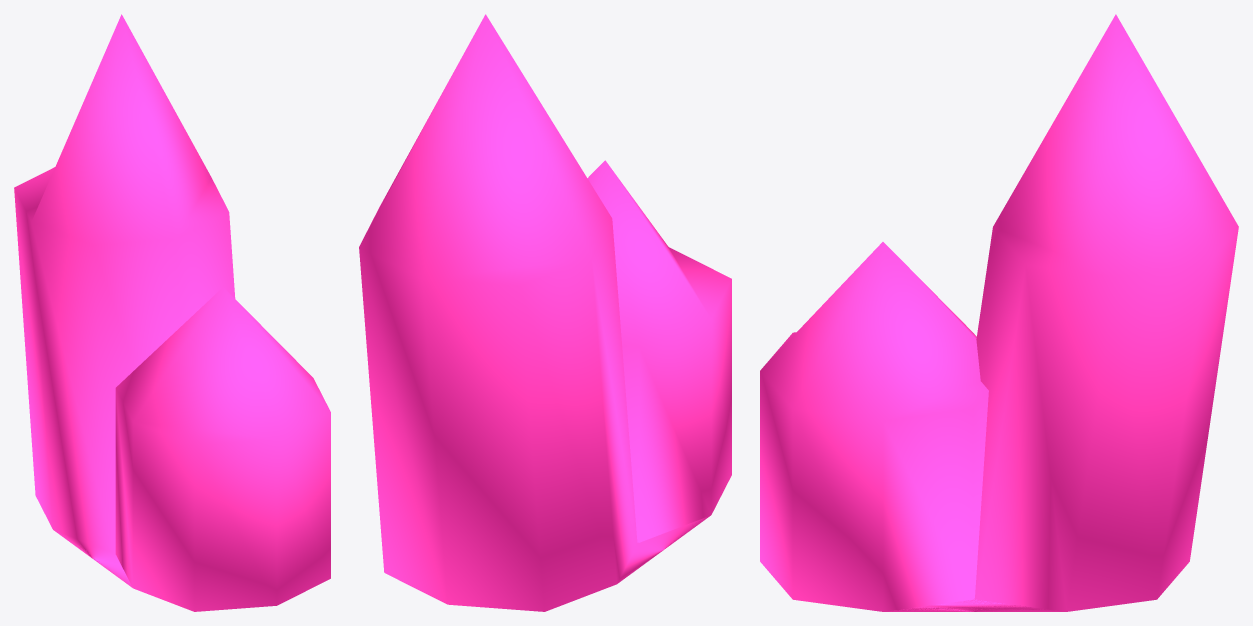
The model's file is SmallPurpleCrystal.glb.
The picture shows the model from 3 angles, left to right: view 1: azimuth 30°, elevation 25°; view 2: azimuth 150°, elevation 25°; view 3: azimuth 270°, elevation 25°; orthographic projection. The views are drawn at different scales.
Parts seen in each view (by area): view 1: Cubo.020; view 2: Cubo.020; view 3: Cubo.020.
Part boxes in pixels (x1,y1,x2,y2): Cubo.020: (14, 14, 330, 611); Cubo.020: (359, 14, 731, 611); Cubo.020: (760, 14, 1238, 611).
Size of the model in its own units: 3.7 by 9.38 by 7.44.
